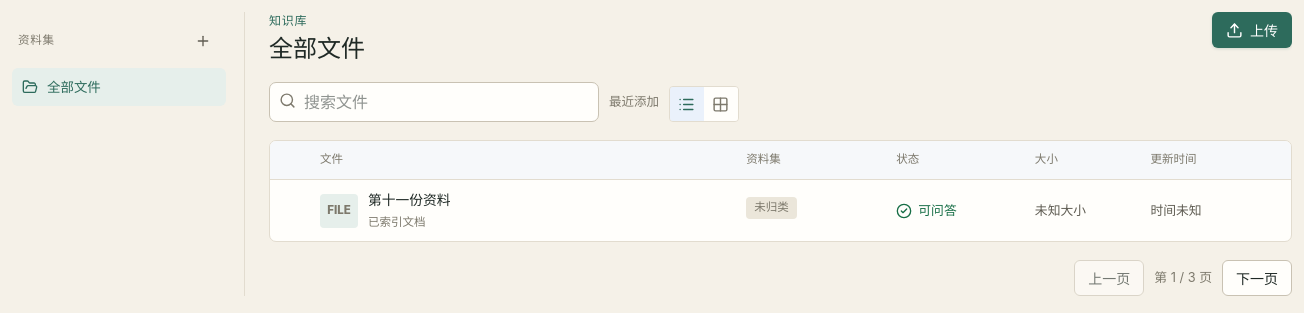
it: LibraryPage › pages through the server result
Click the button "下一页" at (1257, 278), box [1222,260,1292,296]
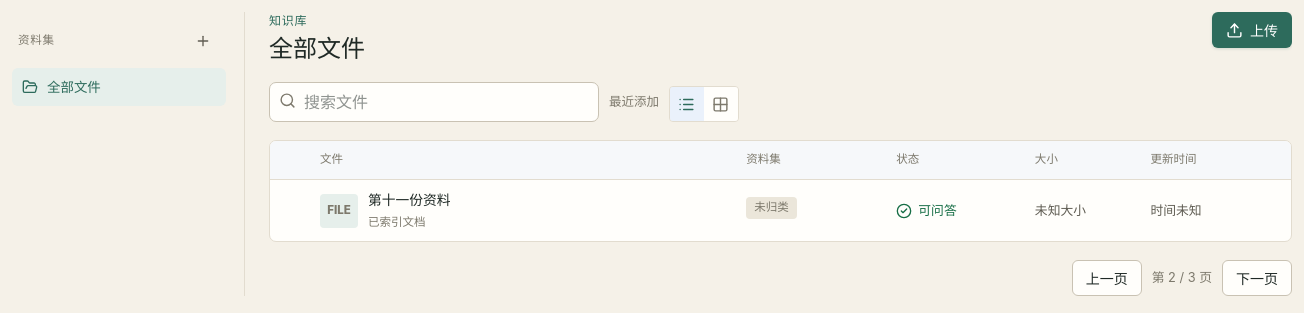
Result: the text "第 2 / 3 页" is shown at [1152,268,1212,288]
